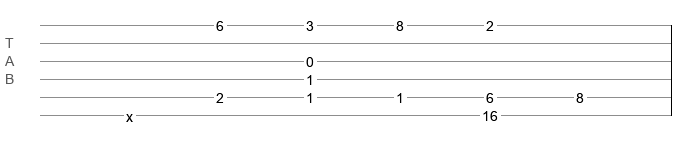0: (306, 54, 314, 64)
1: (306, 72, 314, 82), (306, 90, 314, 100), (396, 90, 404, 100)
16: (482, 108, 498, 118)
2: (216, 90, 224, 100), (486, 18, 494, 28)
3: (306, 18, 314, 28)
6: (216, 18, 224, 28), (486, 90, 494, 100)
8: (396, 18, 404, 28), (576, 90, 584, 100)
x: (126, 109, 133, 117)
